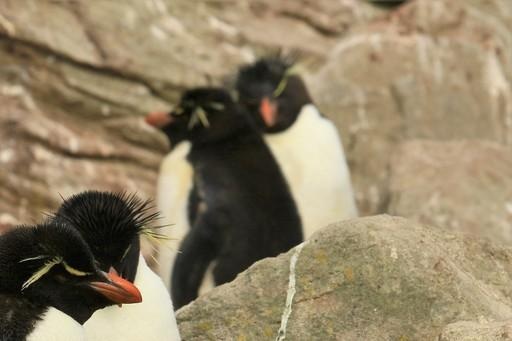Southern Rockhopper Penguin: (108, 75, 317, 307), (228, 40, 379, 244), (35, 172, 204, 341), (0, 208, 145, 341)
